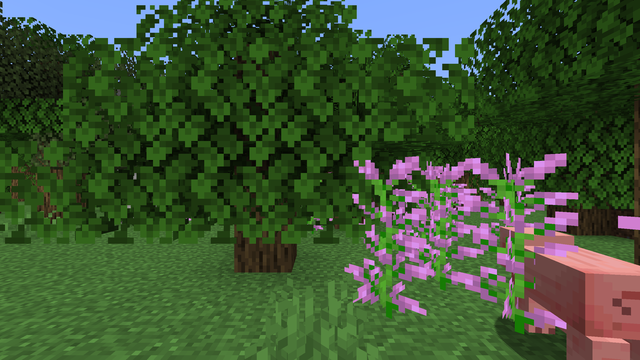cochons: (498, 242, 632, 354)
